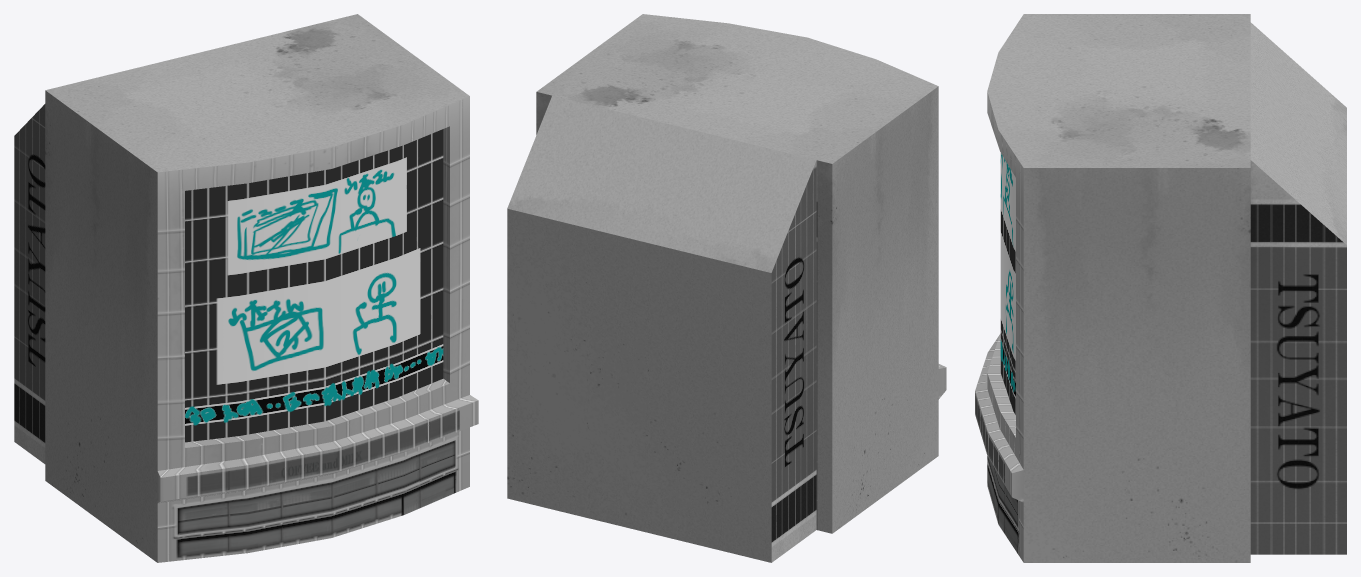
Rendered from BgMD_Monitor_02_01.fbx.
3 views of the same model, side by side, from view 1: azimuth 30°, elevation 25°; view 2: azimuth 150°, elevation 25°; view 3: azimuth 270°, elevation 25° (orthographic). The views are drawn at different scales.
Visible parts, largest first — view 1: pCube115; view 2: pCube115; view 3: pCube115.
Boxes of the visible parts, x1,y1,x2,y2 form: pCube115: (14,14,478,562); pCube115: (507,14,946,562); pCube115: (975,14,1346,562).
Bounding box in the file's own units: 3151 × 3700 × 3157.
